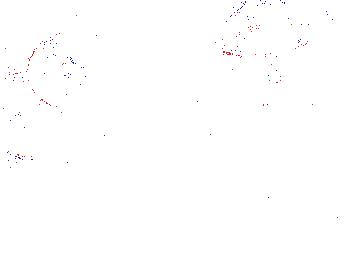moon jellyfish: (146, 117, 248, 210), (268, 11, 345, 105), (1, 69, 72, 160), (27, 33, 98, 108), (219, 1, 312, 56)
